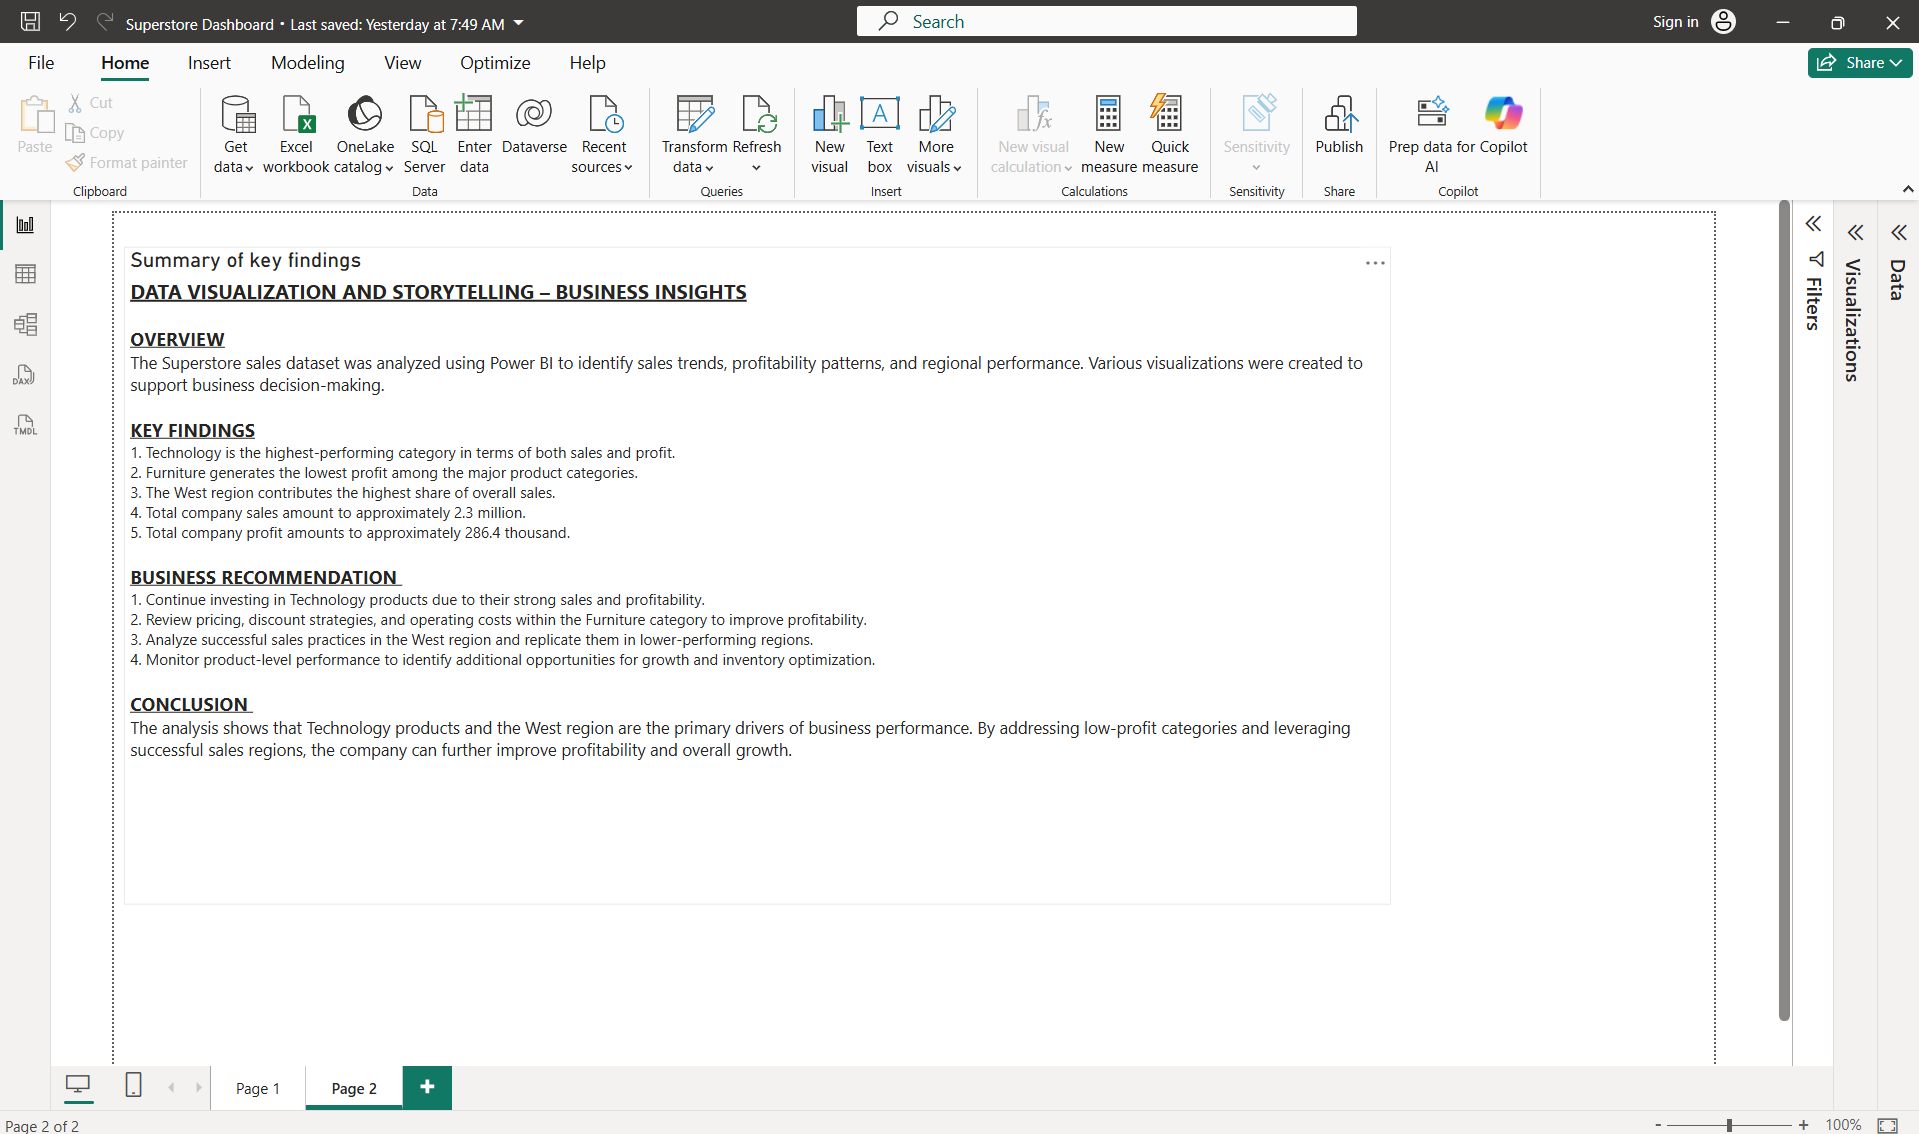

Layout of this report page (visuals, bound fields, positions):
{"tool":"powerbi","page":{"name":"Page 2","canvas":[1280,720],"ordinal":1},"visuals":[{"type":"textbox","title":"Summary of key findings","box":[8,27,1014,527],"z":0}]}

Visuals, with their boxes on the page's 1280x720 design canvas (x1, y1, x2, y2). These are canvas units, not pixel positions in the 1919x1134 screenshot, which may show the page scaled, cropped or inside an application window:
"Summary of key findings" textbox: (8,27,1022,554)
